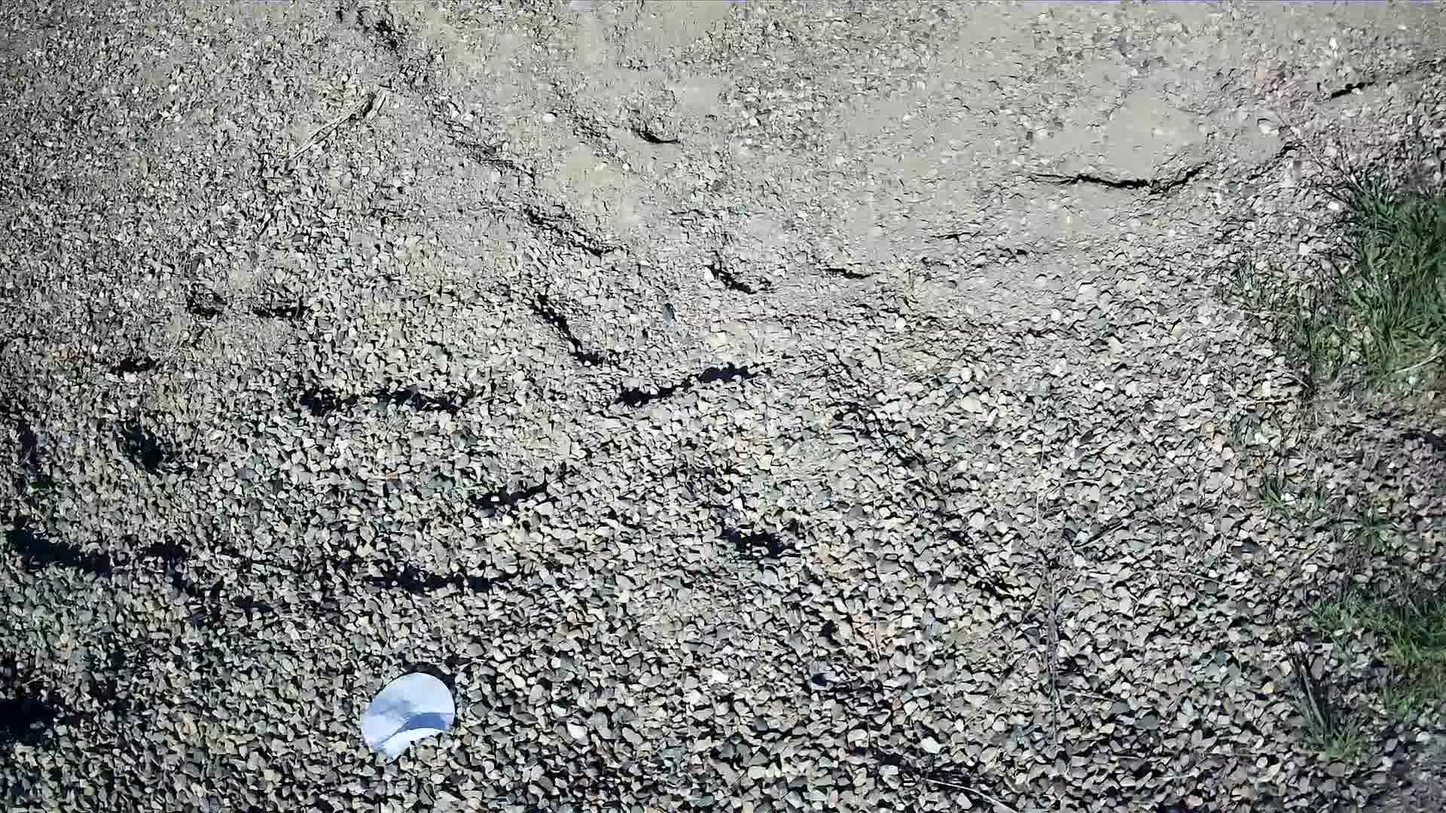Target: (358, 676, 458, 749)
